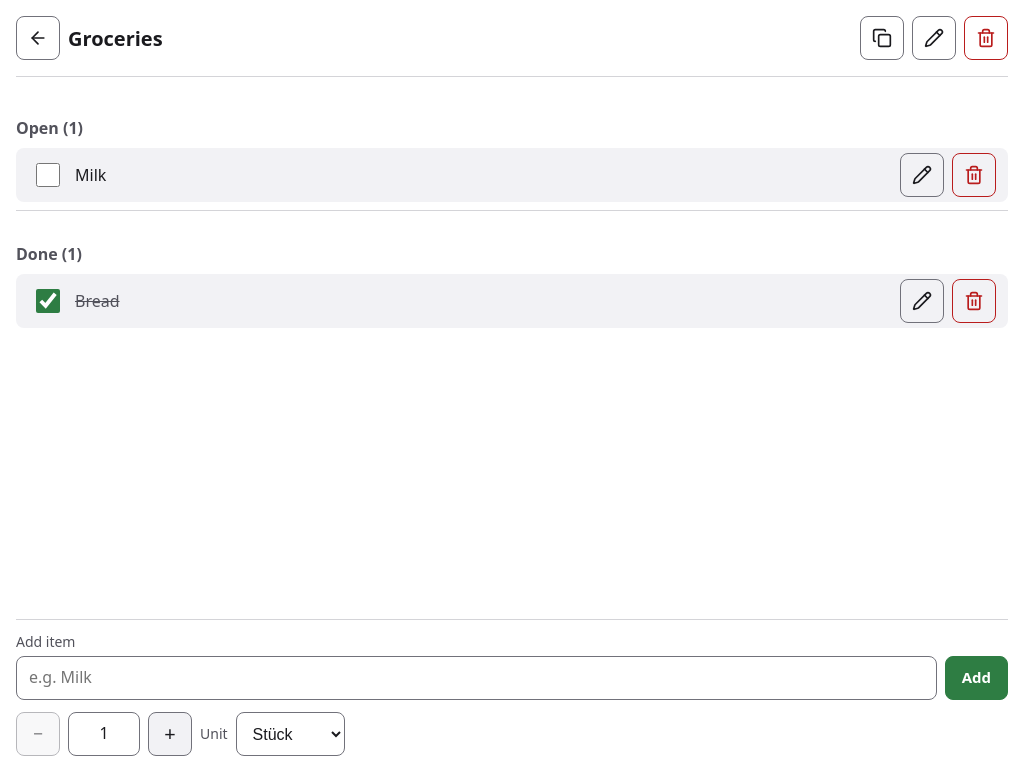
Test: ListDetail › adds an item with a quantity and unit and shows "2 l" optimistically
Type "Juice" into the field labelled "Add item" at (476, 678), box [16,656,937,700]
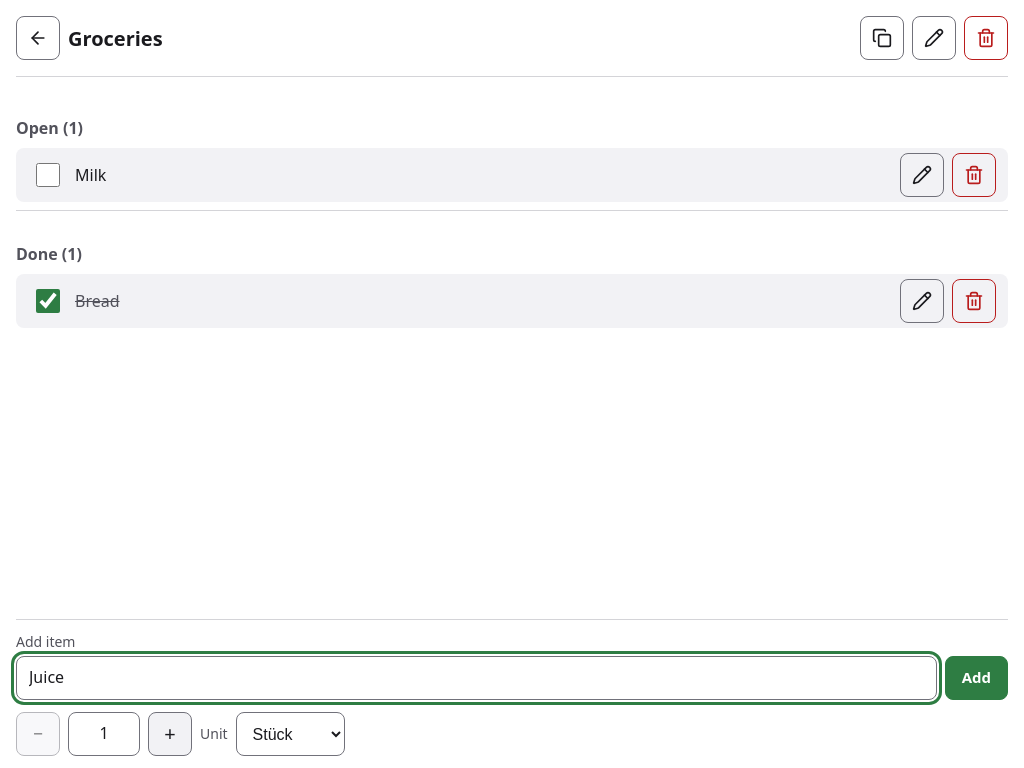
# Bump the quantity to 2 and pick litres.
Click the button named "Increase quantity" at (170, 734), box [148,712,192,756]
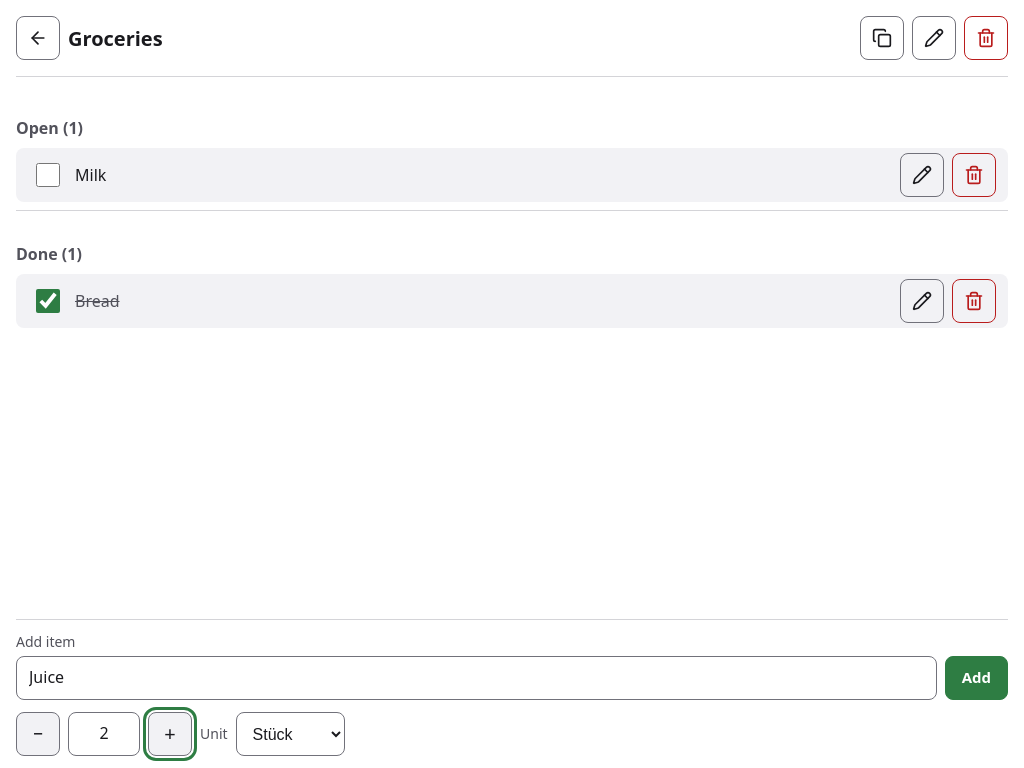
Select "l" in the dropdown labelled "Unit" at (290, 734), box [236,712,345,756]
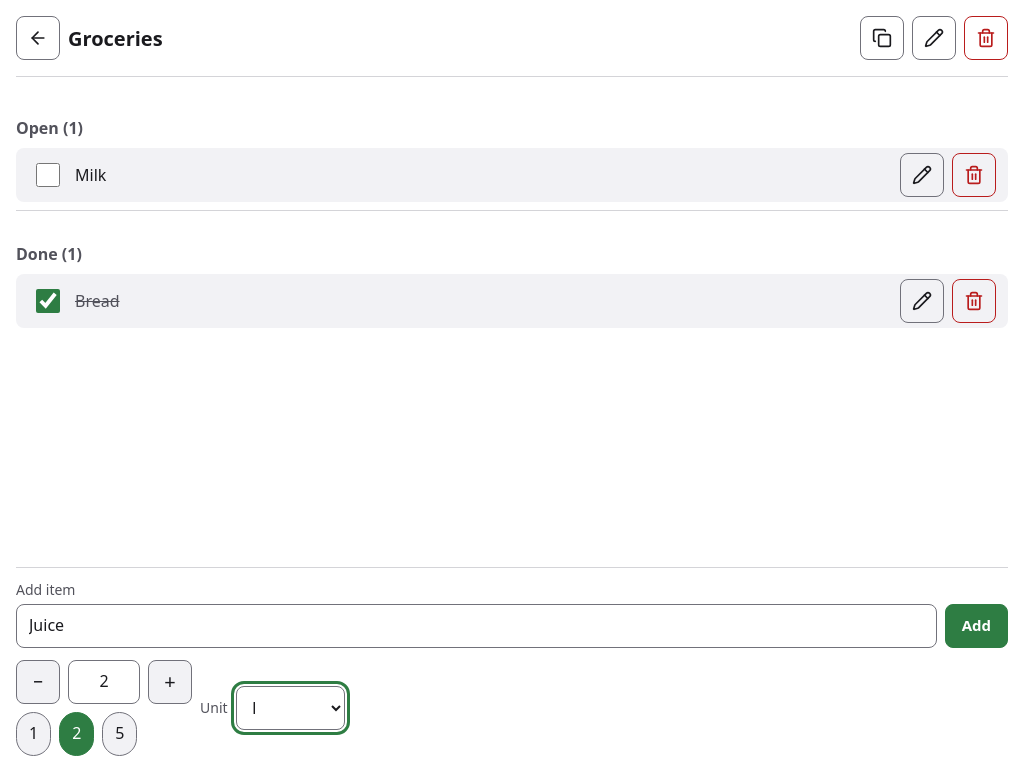
Click the button "Add" at (976, 626), box [945,604,1008,648]
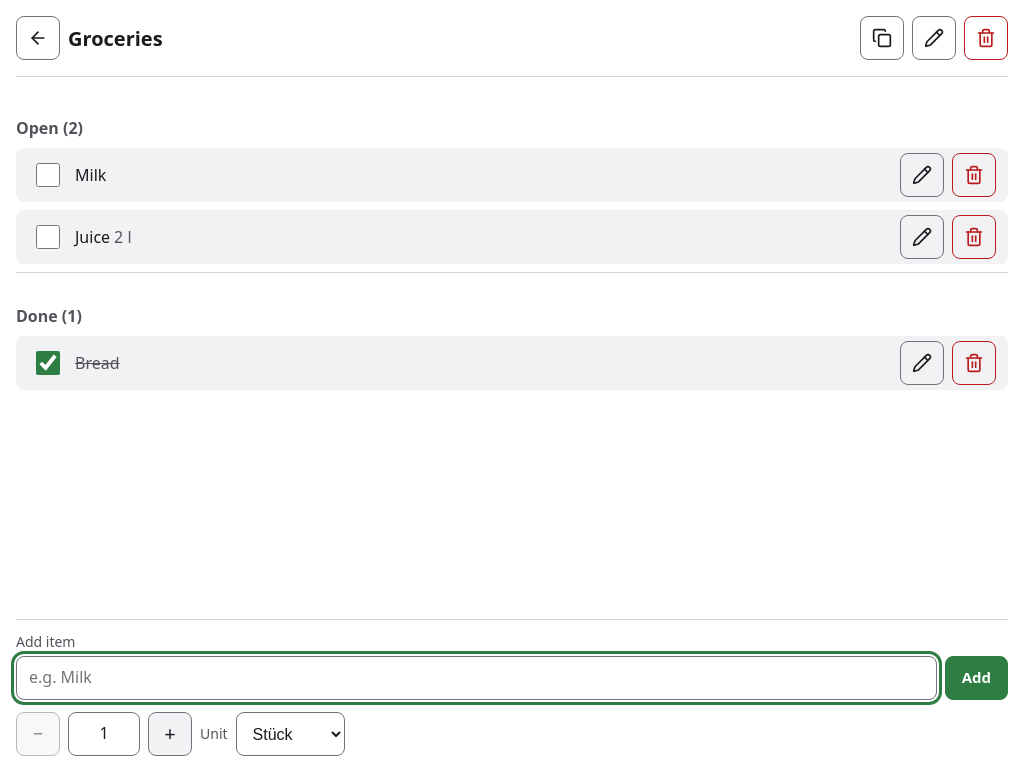
Expected: the text "2 l" is shown, [114,226,132,249]
Expected: the number field with test id "quick-add-quantity" holds "1", [68,712,140,756]
